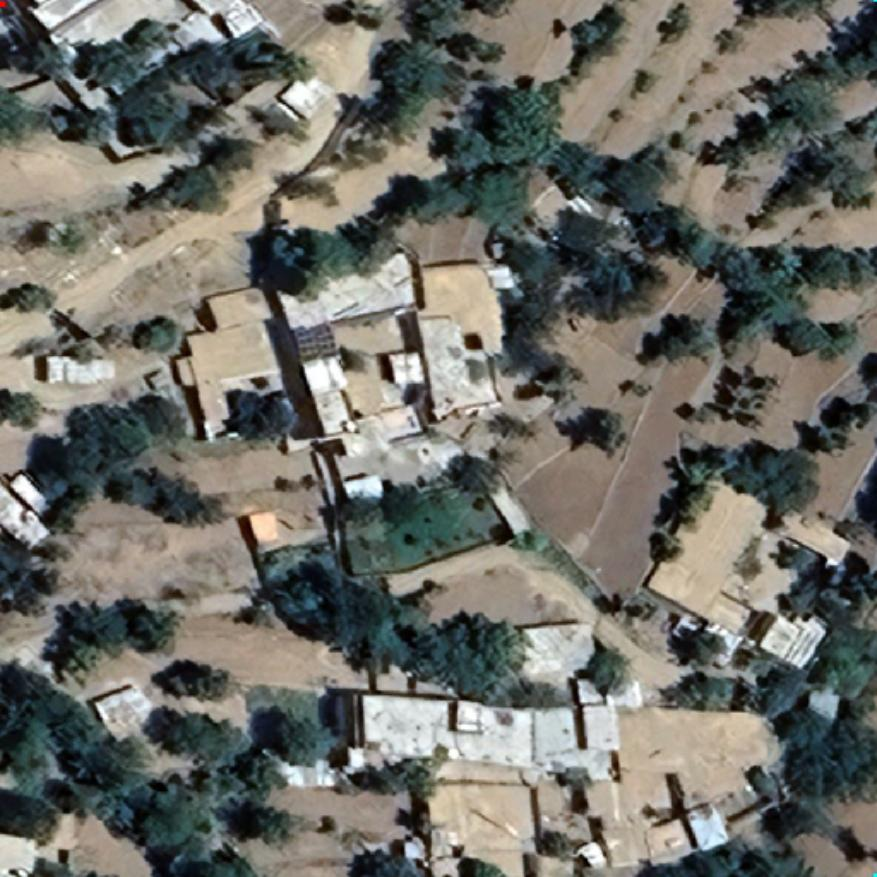Solarpanel: (289, 318, 341, 362)
